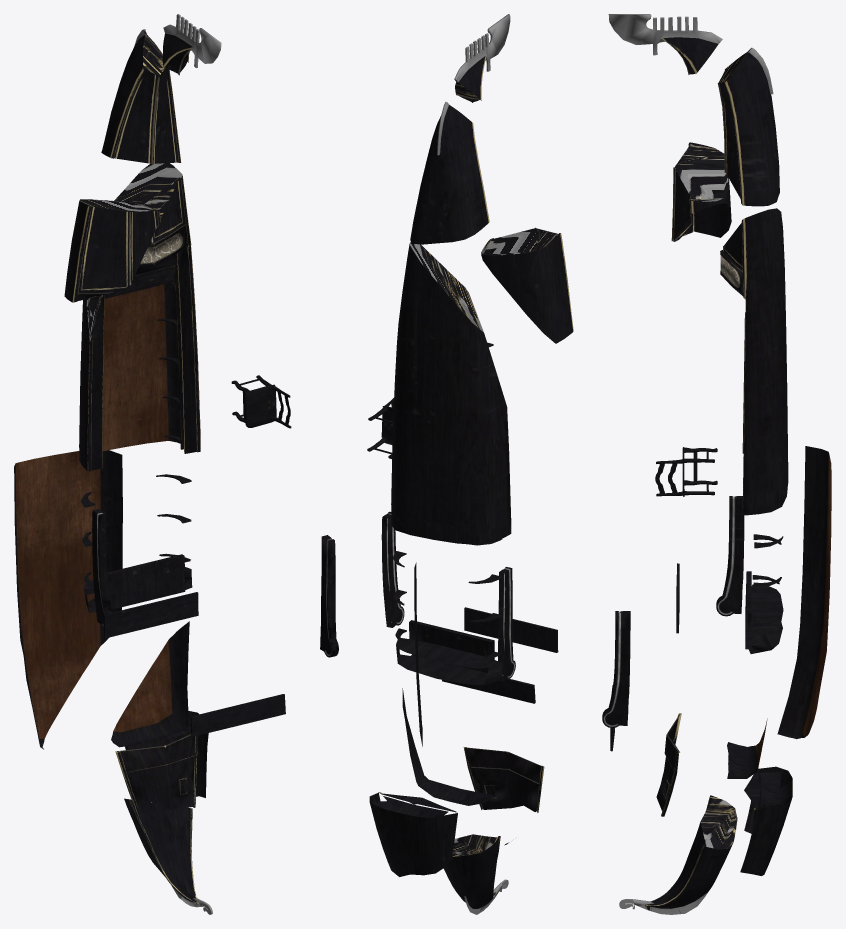
The model's file is Gondola-04.glb.
3 views of the same model, side by side, from view 1: azimuth 30°, elevation 25°; view 2: azimuth 150°, elevation 25°; view 3: azimuth 270°, elevation 25° (orthographic). The views are drawn at different scales.
Visible parts, largest first — view 1: 14, 7, 17, 18, 6, 4, 3, 10, 9, 19, 8, 12 (+5 smaller); view 2: 14, 18, 17, 5, 10, 4, 3, 19, 9, 12, 11, 6 (+3 smaller); view 3: 14, 7, 18, 17, 3, 5, 19, 10, 11, 12, 4, 6 (+1 smaller).
Boxes of the visible parts, box(x1,y1,x2,y2) form: 14: box(79, 163, 200, 471); 7: box(14, 450, 122, 749); 17: box(64, 199, 160, 302); 18: box(101, 29, 181, 164); 6: box(111, 621, 189, 747); 4: box(115, 734, 197, 809); 3: box(124, 798, 193, 898); 10: box(83, 554, 192, 612); 9: box(103, 592, 198, 638); 19: box(163, 14, 221, 75); 8: box(190, 694, 285, 736); 12: box(320, 535, 338, 657); 14: box(391, 242, 511, 544); 18: box(410, 102, 489, 244); 17: box(481, 227, 573, 343); 5: box(369, 792, 457, 876); 10: box(396, 620, 502, 684); 4: box(463, 747, 544, 812); 3: box(443, 834, 500, 914); 19: box(454, 14, 510, 102); 9: box(464, 607, 558, 652); 12: box(381, 511, 404, 627); 11: box(498, 567, 515, 681); 6: box(402, 688, 495, 805); 14: box(720, 208, 788, 515); 7: box(777, 446, 831, 739); 18: box(717, 47, 779, 206); 17: box(671, 142, 731, 241); 3: box(667, 795, 737, 913); 5: box(740, 766, 792, 875); 19: box(608, 14, 722, 74); 10: box(745, 571, 783, 653); 11: box(716, 496, 744, 616); 12: box(602, 611, 630, 727); 4: box(656, 713, 681, 816); 6: box(727, 718, 767, 778).
Bounding box in the file's own units: 3.23 × 12.03 × 2.77.
Materials: 2 (2 with a texture image).
